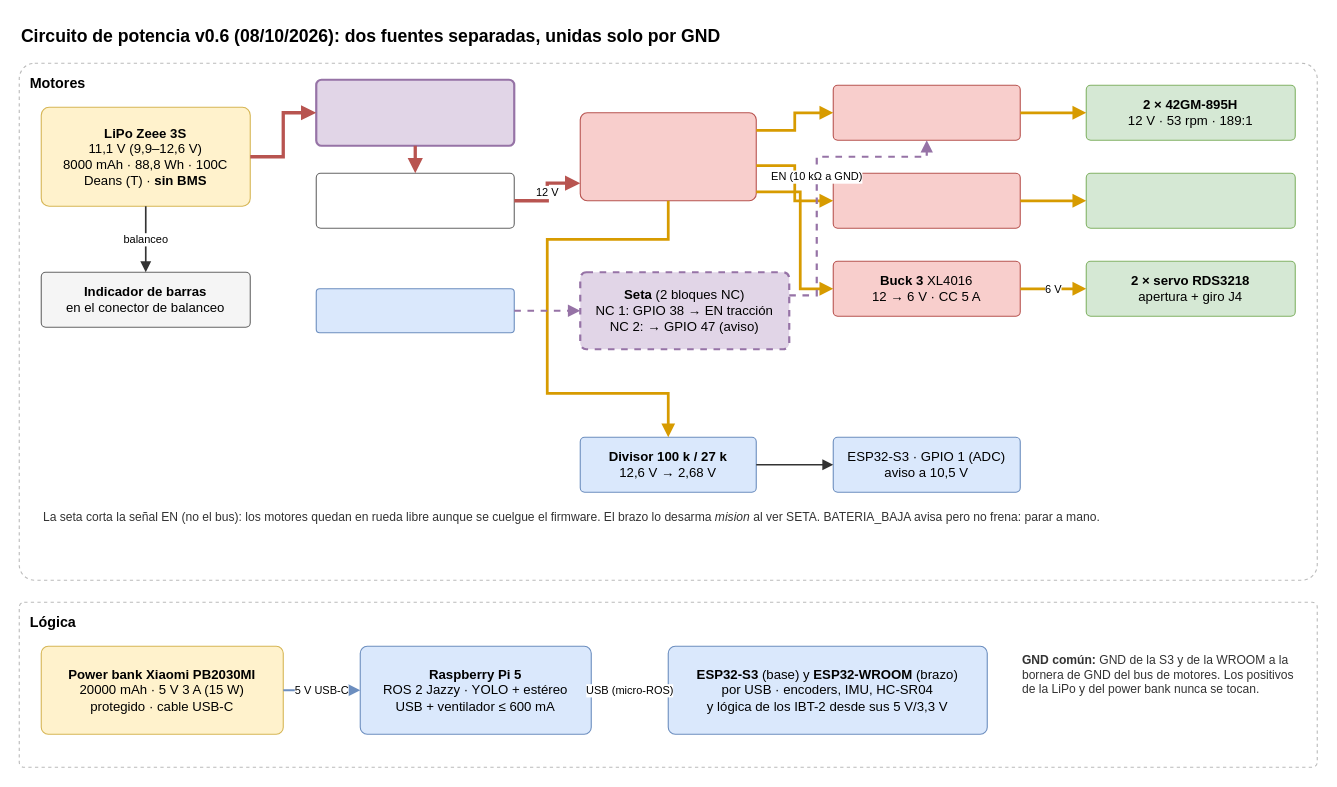
This 1337x787 diagram has some shape labels left out. Each missing label, with the centre of its shape:
"2 × IBT-2 (BTS7960) tracción" goes at point 926,112.
"3 × IBT-2 (BTS7960) J1, J2, J3" goes at point 926,200.
"Bus 12 V de motores directo, sin buck capacitores ≥ 25 V" goes at point 667,156.
"ESP32-S3 · GPIO 38 (EN)" goes at point 414,310.
"Fusible de auto 20 A pegado al Deans protección contra cortos" goes at point 415,112.
"J1: 36GP-555 160 rpm J2, J3: 36-555 58 rpm" goes at point 1190,200.
"Selector WEG 2 NA en paralelo · ON/OFF de motores (H8)" goes at point 414,200.
